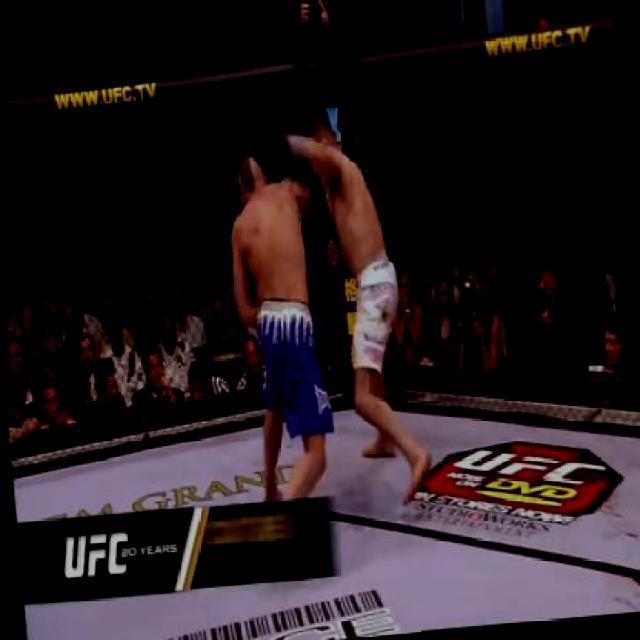fight: (219, 114, 438, 536)
